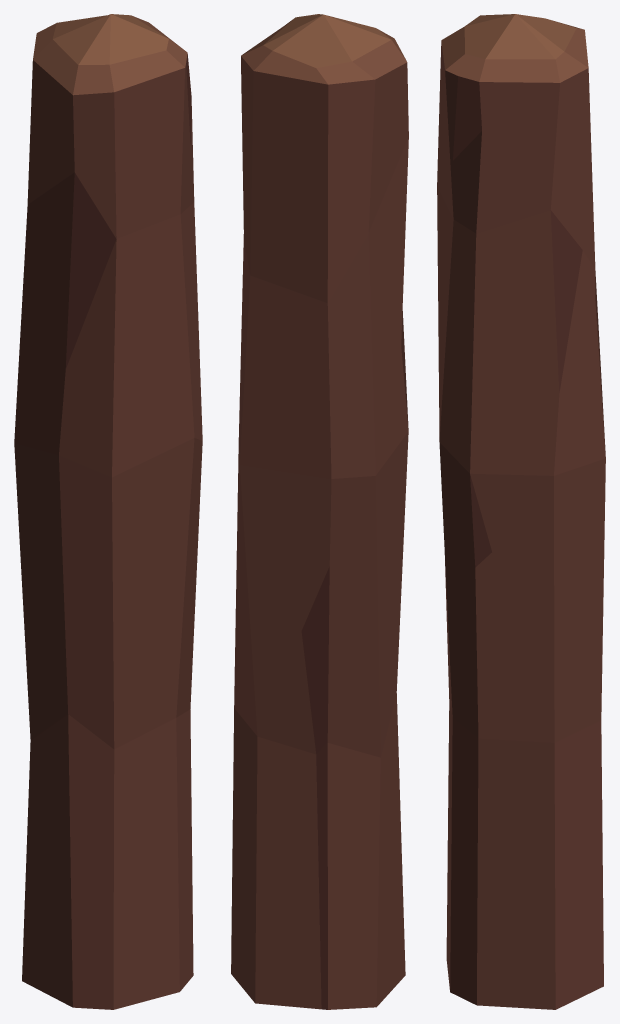
File: log_2.fbx
3 renders of one model, left to right at view 1: azimuth 30°, elevation 25°; view 2: azimuth 150°, elevation 25°; view 3: azimuth 270°, elevation 25°, orthographic.
Visible parts, largest first — view 1: log_2; view 2: log_2; view 3: log_2.
Part boxes in pixels (bbox=[...]): log_2: bbox=[14, 14, 202, 1009]; log_2: bbox=[231, 14, 408, 1009]; log_2: bbox=[437, 14, 605, 1009].
Bounding box in the file's own units: 21.68 × 136 × 21.63.
